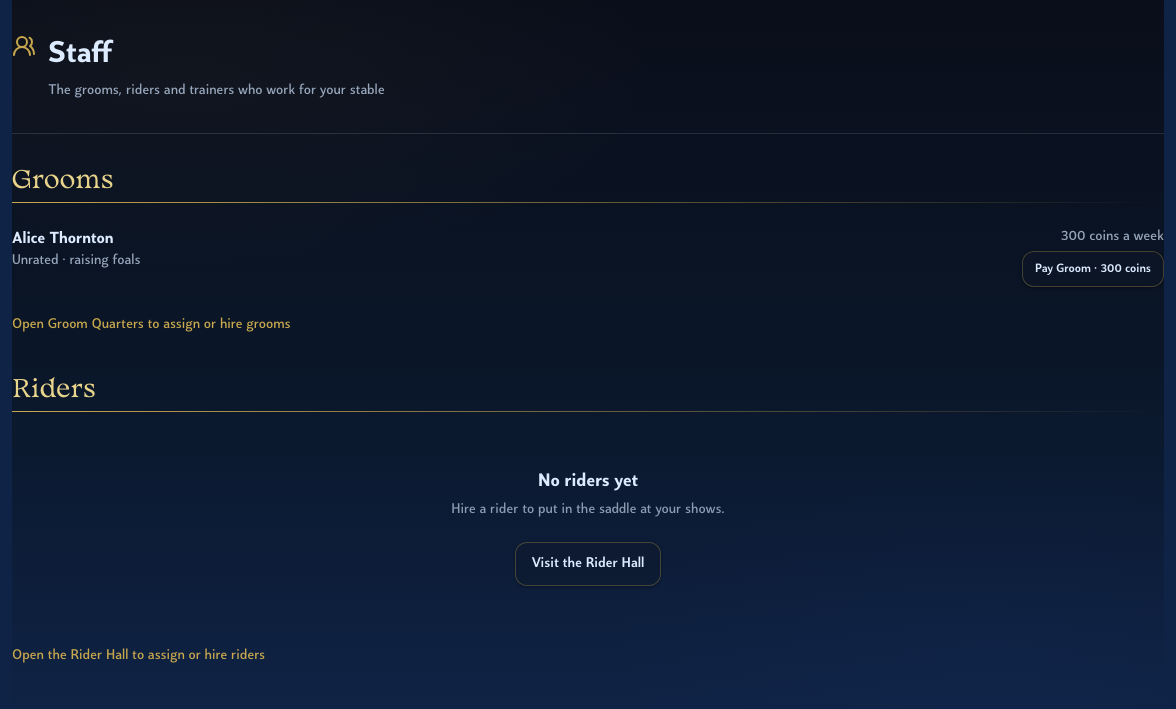
Scenario: StaffPage › one click on Pay Groom pays and the row updates in place, with no receipt
Click the button with test id "pay-groom-1". click: (1093, 269)
box: [1022, 251, 1164, 287]
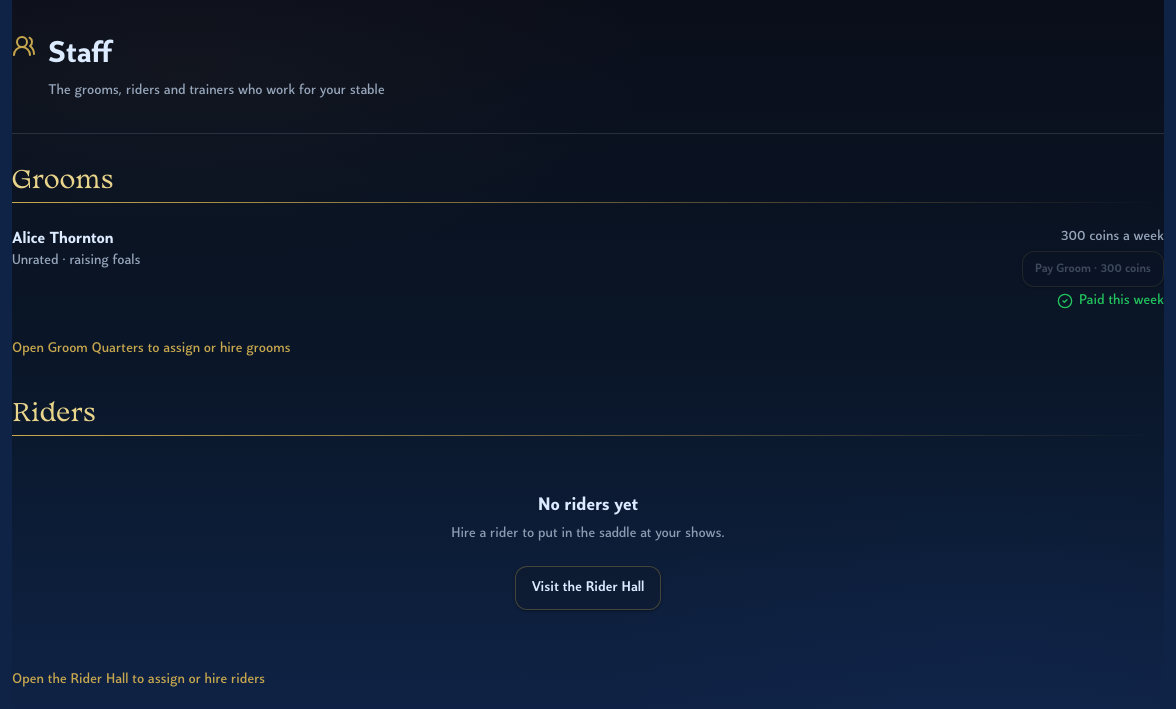
Expected: the text "Paid this week" is shown, [1057, 293, 1164, 309]
Expected: the button with test id "pay-groom-1" is disabled, [1022, 251, 1164, 287]
